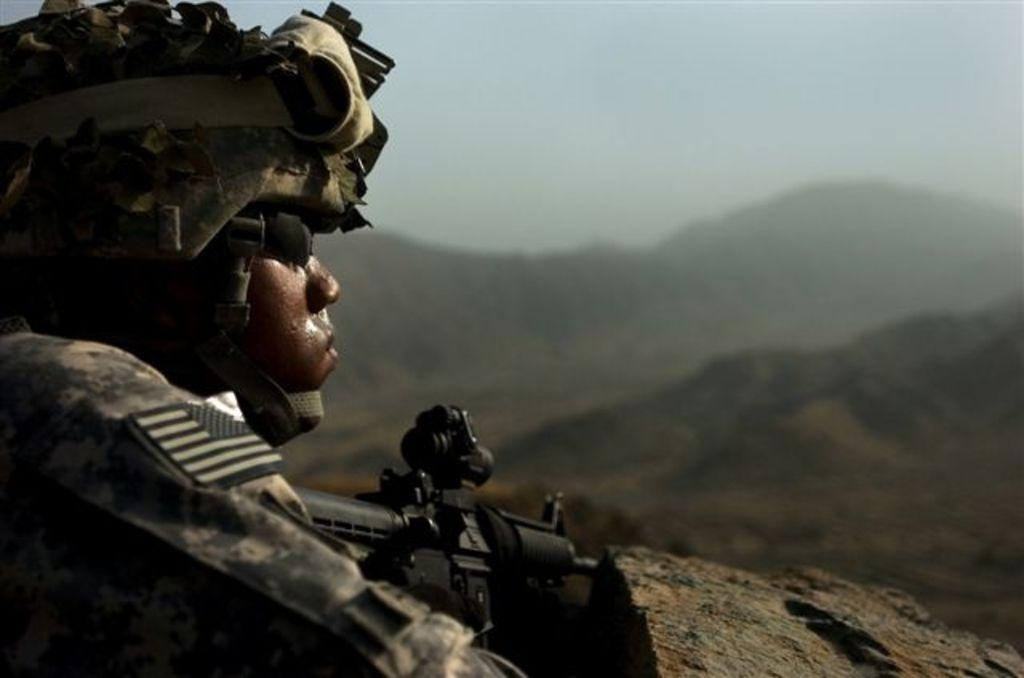Rifle: (256, 417, 630, 667)
